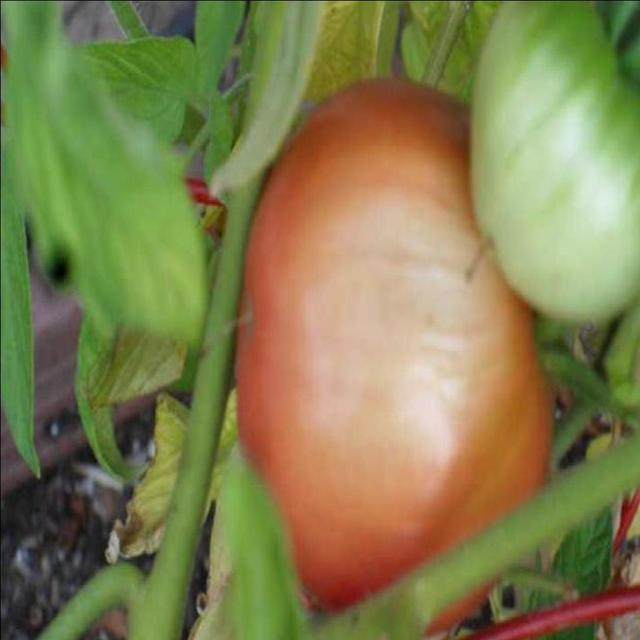Sunscald Fruit: (88, 104, 377, 250)
